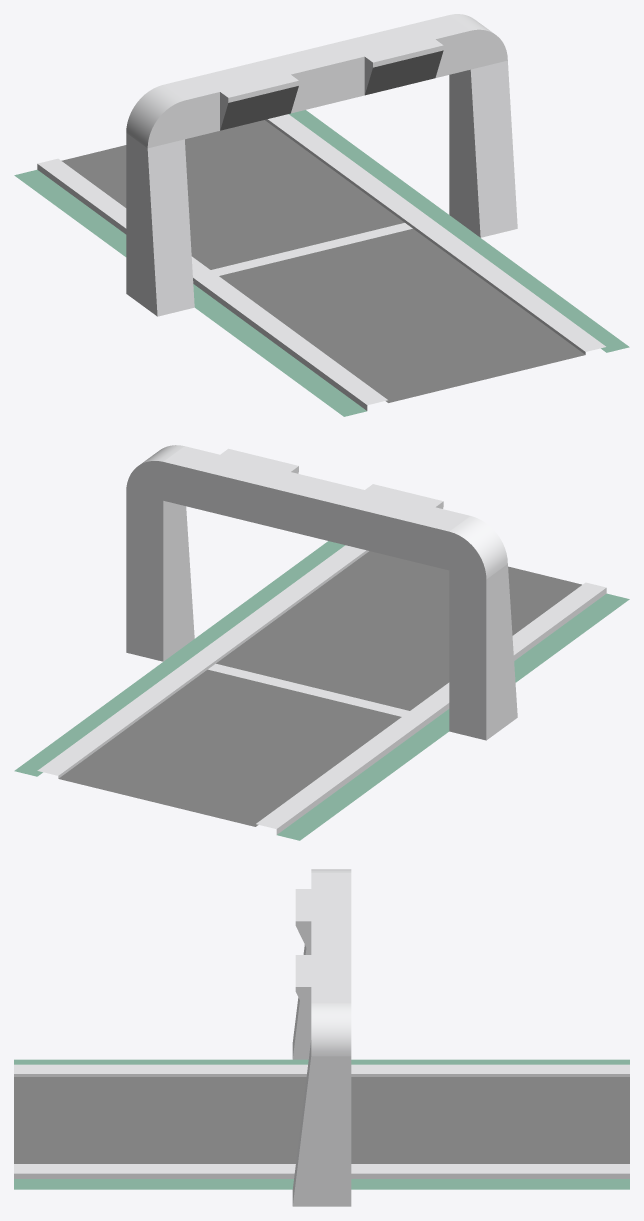
The model's file is roadStart.glb.
3 renders of one model, top to bottom at view 1: azimuth 30°, elevation 25°; view 2: azimuth 150°, elevation 25°; view 3: azimuth 270°, elevation 25°, orthographic. The views are drawn at different scales.
Parts seen in each view (by area): view 1: roadStart(Clone); view 2: roadStart(Clone); view 3: roadStart(Clone).
Part boxes in pixels (left/top/right/bottom): roadStart(Clone): left=14, top=14, right=629, bottom=416; roadStart(Clone): left=14, top=445, right=629, bottom=840; roadStart(Clone): left=14, top=869, right=629, bottom=1206.
Size of the model in its own units: 1.26 by 0.6682 by 2.
